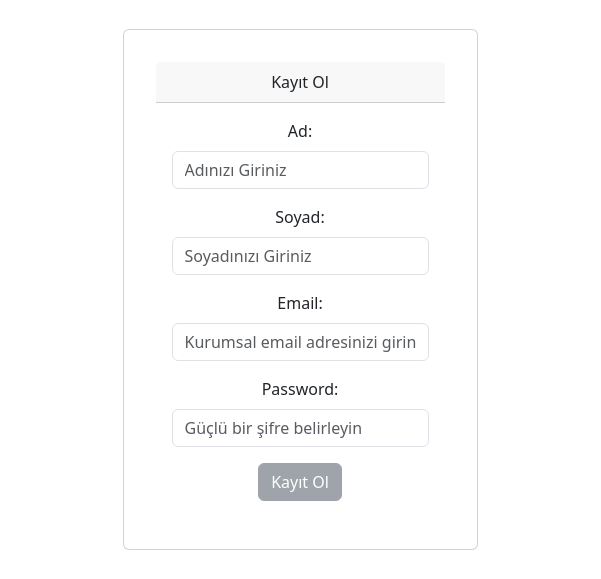
it: Register Page › Error Message › Password input throws error for 2 chars
Type "1234" into the password field with test id "password-input" at [301, 428], box [172,409,429,447]
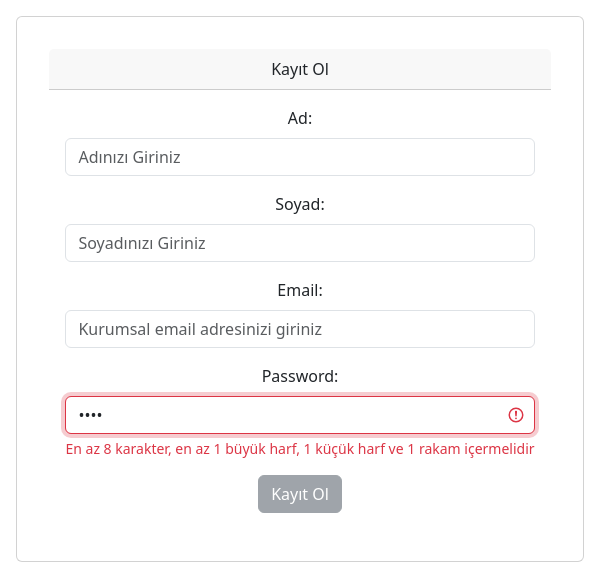
Expected: the text "En az 8 karakter, en az 1 büyük harf, 1 küçük harf ve 1 rakam içermelidir" is shown, [66,438,535,459]
